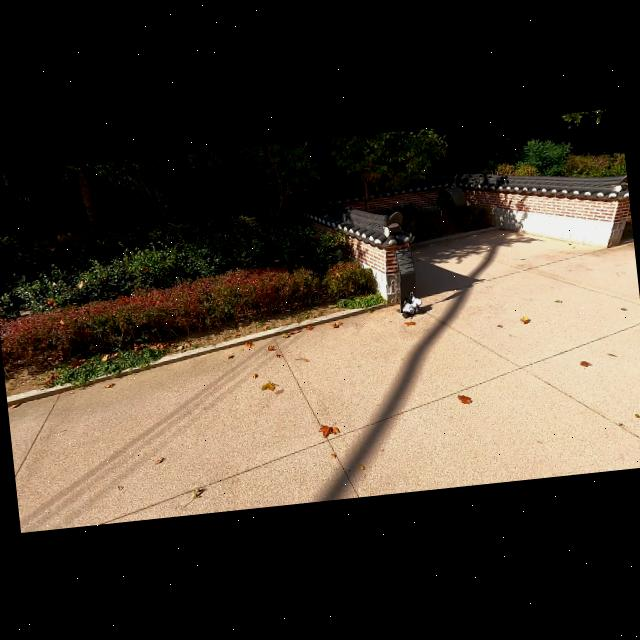trash: (401, 296, 413, 316), (402, 302, 416, 315), (410, 294, 421, 308), (401, 309, 415, 319), (412, 303, 423, 315)
